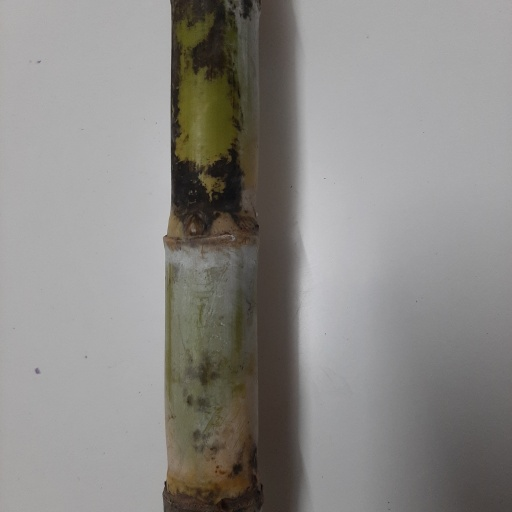Bud: (184, 215, 206, 239)
